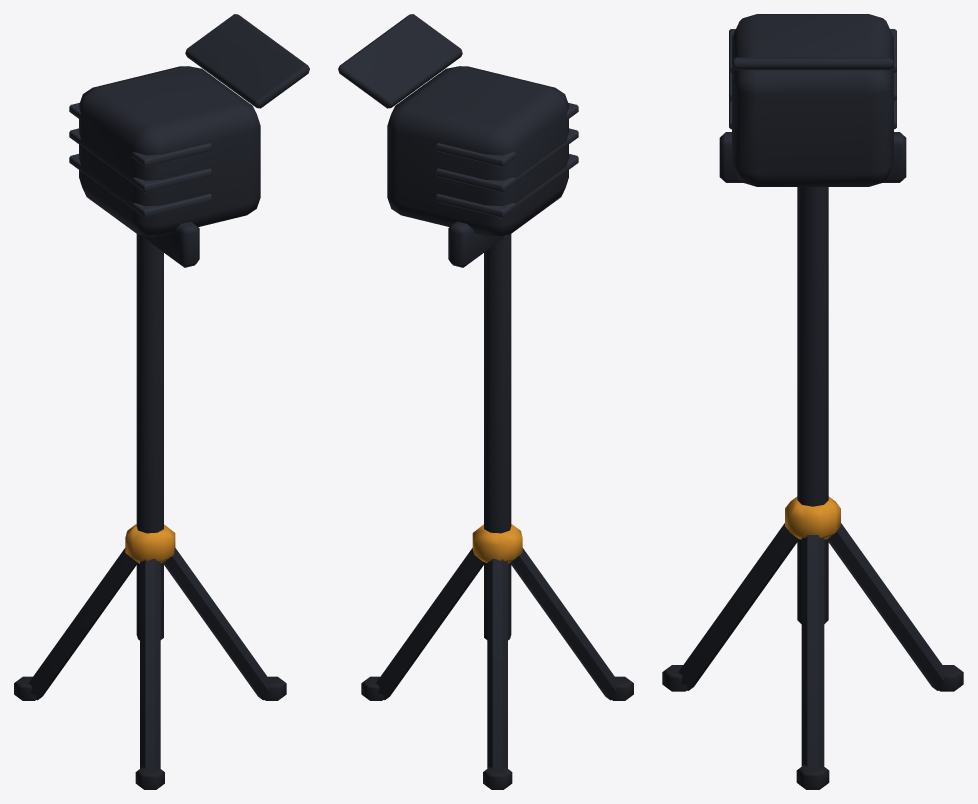
Rendered from SM_Prop_PracticalLamp.fbx.
The picture shows the model from 3 angles, left to right: view 1: azimuth 30°, elevation 25°; view 2: azimuth 150°, elevation 25°; view 3: azimuth 270°, elevation 25°; orthographic projection. The views are drawn at different scales.
Visible parts, largest first — view 1: SM_Prop_PracticalLamp; view 2: SM_Prop_PracticalLamp; view 3: SM_Prop_PracticalLamp.
Boxes of the visible parts, x1=… form: SM_Prop_PracticalLamp: x1=14, y1=14, x2=309, y2=789; SM_Prop_PracticalLamp: x1=338, y1=14, x2=633, y2=789; SM_Prop_PracticalLamp: x1=662, y1=14, x2=963, y2=789.
Size of the model in its own units: 42.05 by 129 by 48.56.
